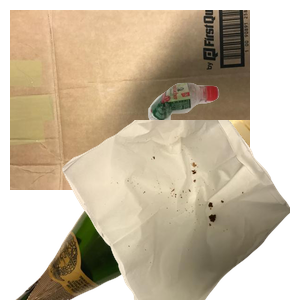cardboard: (10, 10, 250, 190)
glass: (13, 120, 253, 300)
plastic: (146, 80, 300, 198)
trash: (60, 120, 300, 300)
